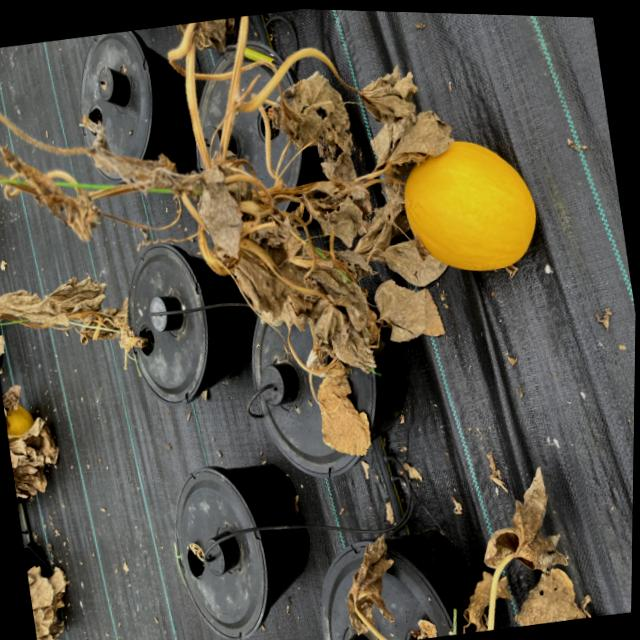bacterial wilt: (221, 195, 386, 387), (0, 266, 147, 369), (471, 468, 570, 580), (94, 130, 206, 206), (335, 526, 408, 634), (265, 66, 353, 154), (305, 354, 376, 463), (507, 560, 601, 630), (372, 269, 448, 349), (302, 175, 374, 250), (367, 105, 454, 166), (26, 561, 78, 640), (357, 62, 423, 124), (6, 426, 60, 498), (382, 233, 447, 290), (457, 565, 516, 624), (317, 135, 358, 185), (0, 383, 27, 422), (0, 330, 7, 357)
